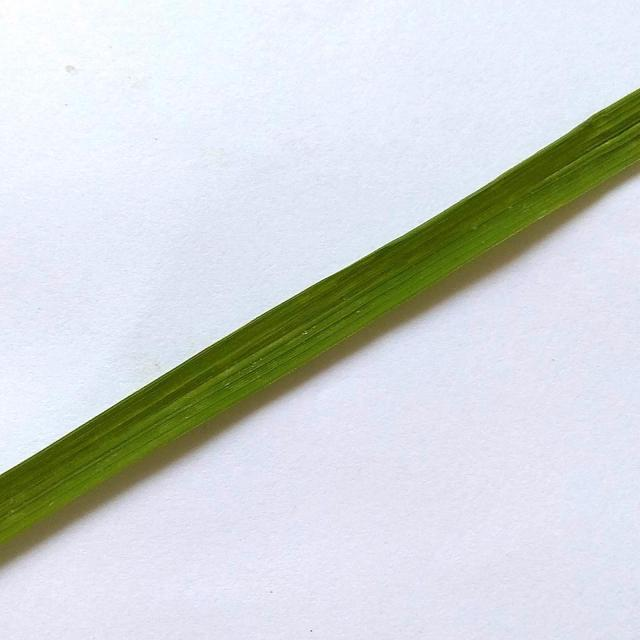healthy: (1, 0, 640, 555)
